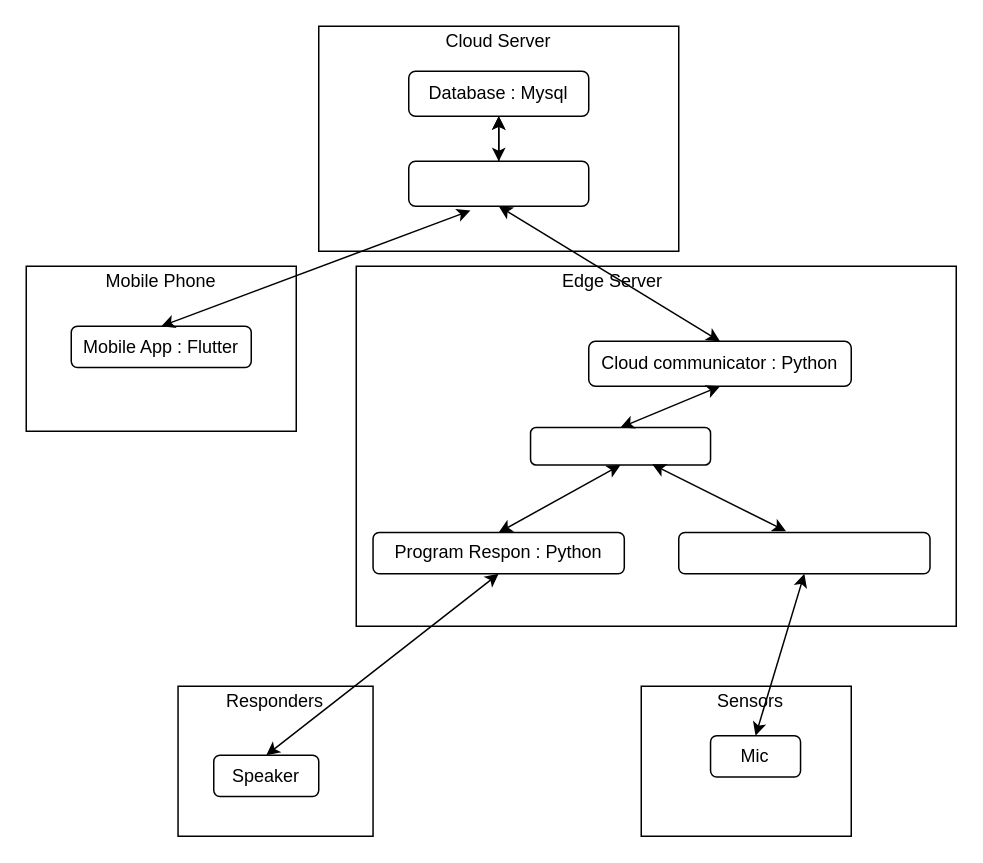
This 983x863 diagram has some shape labels left out. The box of each missing label's shape, as (x1, y1, x2, y2) in pixels:
Broker : Redis: (529, 426, 711, 465)
Program Deteksi : Python: (677, 531, 930, 574)
Web Service : Python: (407, 160, 589, 206)
